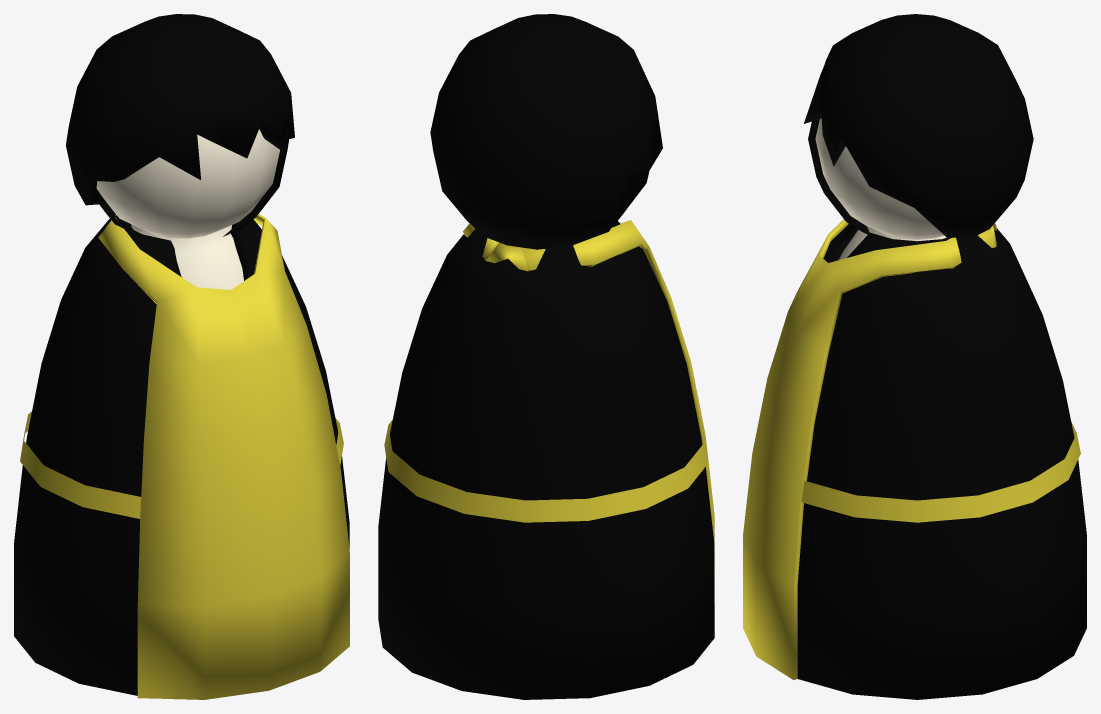
File: Seller_01.fbx
3 views of the same model, side by side, from view 1: azimuth 30°, elevation 25°; view 2: azimuth 150°, elevation 25°; view 3: azimuth 270°, elevation 25° (orthographic).
Parts seen in each view (by area): view 1: Seller_01; view 2: Seller_01; view 3: Seller_01.
Boxes of the visible parts, x1=… form: Seller_01: x1=14, y1=14, x2=349, y2=699; Seller_01: x1=378, y1=14, x2=714, y2=699; Seller_01: x1=743, y1=14, x2=1086, y2=699.
Bounding box in the file's own units: 90.09 × 178 × 91.41.
